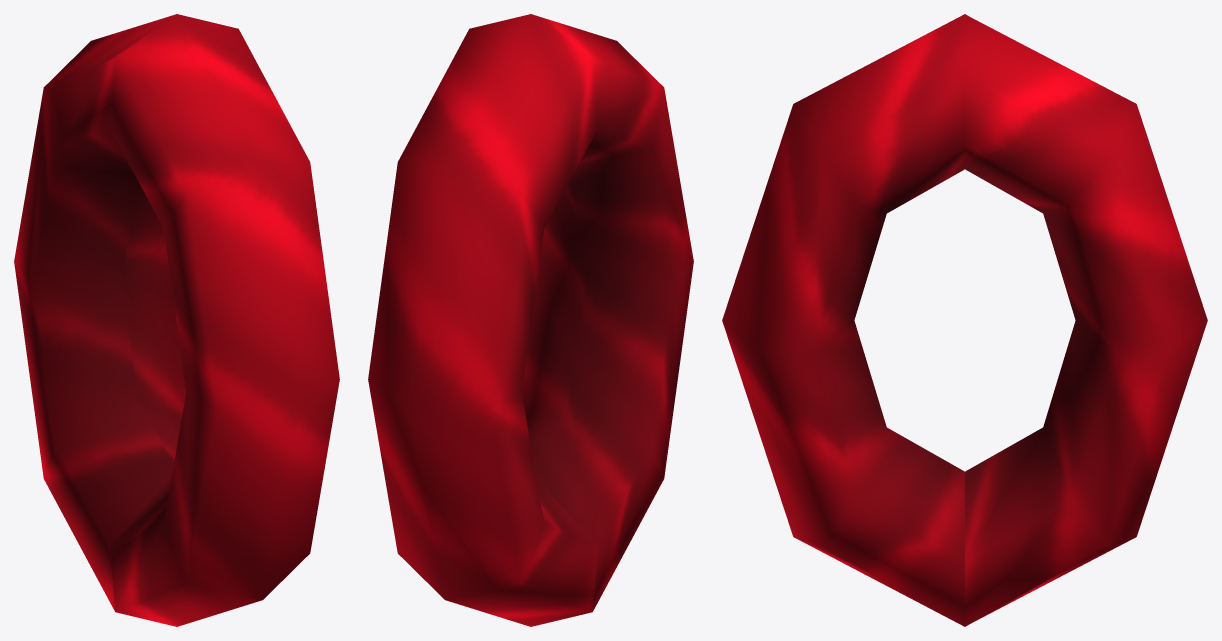
The model's file is String_Loop_A.fbx.
The picture shows the model from 3 angles, left to right: view 1: azimuth 30°, elevation 25°; view 2: azimuth 150°, elevation 25°; view 3: azimuth 270°, elevation 25°; orthographic projection.
Visible parts, largest first — view 1: String_Loop_A; view 2: String_Loop_A; view 3: String_Loop_A.
Boxes of the visible parts, x1,y1,x2,y2 form: String_Loop_A: [14, 14, 339, 626]; String_Loop_A: [368, 14, 693, 626]; String_Loop_A: [722, 14, 1207, 626].
Bounding box in the file's own units: 2.56 × 11.15 × 8.01.
1 material, 1 textured.
